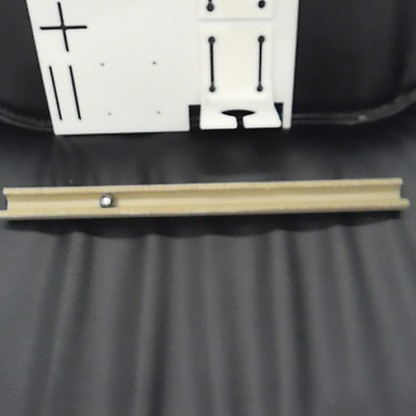ironball: (99, 191, 112, 207)
